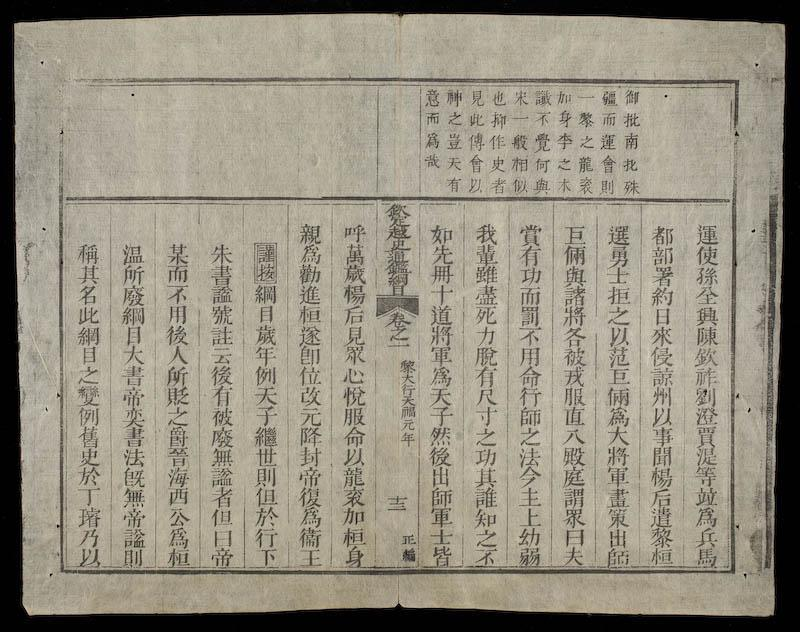c: (207, 277, 236, 304), (383, 311, 413, 334), (119, 241, 147, 265), (251, 240, 280, 263), (207, 265, 234, 289), (164, 241, 191, 265), (692, 425, 720, 448), (605, 223, 633, 246), (75, 505, 103, 528), (384, 273, 412, 296), (692, 222, 721, 244), (74, 241, 101, 264), (647, 526, 675, 548), (471, 486, 499, 508), (207, 325, 235, 347), (427, 223, 455, 245), (472, 284, 500, 306), (252, 425, 280, 447), (252, 505, 280, 527), (691, 485, 720, 506), (604, 285, 633, 306), (429, 544, 455, 567), (517, 223, 543, 246), (165, 426, 191, 449), (76, 425, 102, 448), (296, 526, 323, 548), (649, 265, 676, 287), (648, 466, 675, 488), (296, 222, 323, 244), (120, 365, 147, 387), (208, 304, 235, 326), (516, 305, 543, 327), (208, 242, 235, 264), (75, 546, 102, 568), (605, 246, 632, 268), (252, 465, 279, 487), (649, 224, 676, 246), (692, 447, 720, 468), (692, 528, 720, 549), (604, 407, 632, 428), (691, 386, 719, 407), (692, 506, 720, 527), (120, 528, 148, 549), (75, 465, 103, 486), (515, 525, 543, 546), (561, 224, 589, 245), (516, 406, 544, 427), (163, 386, 191, 407), (560, 346, 588, 367), (339, 526, 367, 547), (208, 486, 236, 507), (693, 326, 721, 347), (252, 527, 280, 548), (384, 331, 413, 351), (649, 445, 675, 467), (120, 285, 146, 307), (605, 346, 631, 368), (208, 385, 234, 407), (252, 283, 278, 305), (473, 222, 499, 244), (164, 324, 190, 346), (428, 365, 454, 387), (428, 304, 454, 326), (516, 466, 542, 488), (693, 465, 720, 486), (648, 506, 675, 527), (340, 406, 367, 427), (604, 507, 631, 528), (296, 486, 323, 507), (605, 386, 632, 407), (693, 265, 720, 286), (561, 406, 588, 427), (120, 487, 147, 508), (340, 466, 367, 487), (516, 486, 543, 507), (427, 425, 454, 446), (472, 367, 499, 388), (516, 446, 543, 467), (473, 244, 500, 265), (561, 245, 588, 266), (560, 446, 587, 467), (516, 546, 543, 567), (208, 406, 235, 427), (296, 325, 323, 346), (428, 325, 455, 346), (648, 346, 675, 367), (340, 385, 367, 406), (472, 346, 499, 367), (75, 384, 102, 405), (120, 507, 147, 528), (120, 426, 147, 447), (604, 445, 631, 466), (164, 547, 192, 567), (692, 367, 720, 387), (340, 222, 368, 242), (560, 286, 588, 306), (74, 325, 102, 345), (560, 307, 588, 327), (692, 347, 720, 367), (693, 245, 721, 265), (207, 467, 235, 487), (693, 305, 721, 325), (471, 508, 499, 528), (647, 546, 676, 565), (253, 324, 278, 346), (342, 243, 367, 265), (693, 546, 719, 567), (560, 487, 586, 508), (649, 406, 675, 427), (472, 466, 498, 487), (75, 264, 101, 285), (208, 364, 234, 385), (517, 285, 543, 306), (297, 365, 323, 386), (517, 246, 543, 267), (164, 365, 190, 386), (517, 346, 543, 367), (209, 427, 235, 448), (296, 284, 322, 305), (429, 264, 455, 285), (296, 264, 322, 285), (341, 284, 367, 305), (120, 406, 146, 427), (296, 466, 322, 487), (692, 406, 719, 426), (604, 528, 631, 548), (428, 506, 455, 526), (693, 285, 720, 305), (649, 426, 676, 446), (516, 506, 543, 526), (340, 487, 367, 507), (164, 467, 191, 487), (604, 487, 631, 507), (472, 528, 499, 548), (605, 305, 632, 325), (516, 386, 543, 406), (604, 466, 631, 486), (208, 507, 235, 527), (648, 367, 675, 387), (296, 304, 323, 324), (649, 246, 676, 266), (560, 367, 587, 387), (296, 446, 323, 466), (427, 387, 454, 407), (252, 386, 279, 406), (472, 306, 499, 326), (341, 264, 368, 284), (120, 447, 147, 467), (209, 447, 236, 467), (252, 486, 279, 506), (75, 405, 102, 425), (339, 506, 367, 525), (342, 546, 367, 567), (606, 325, 631, 346), (298, 386, 323, 407), (562, 266, 587, 287), (253, 365, 278, 386), (165, 447, 191, 467), (384, 492, 410, 512), (209, 527, 235, 547), (341, 426, 367, 446), (297, 506, 323, 526), (165, 527, 191, 547), (428, 487, 454, 507), (473, 406, 499, 426), (120, 265, 146, 285), (253, 405, 279, 425), (561, 387, 587, 407), (649, 326, 675, 346), (649, 286, 675, 306), (560, 467, 586, 487), (427, 446, 453, 466), (429, 245, 455, 265), (121, 467, 147, 487), (561, 327, 587, 347), (209, 547, 235, 567), (164, 284, 190, 304), (517, 367, 543, 387), (297, 426, 323, 446), (472, 547, 499, 566), (605, 548, 632, 567), (604, 426, 631, 445), (297, 407, 324, 426), (560, 508, 587, 527), (473, 265, 500, 284), (428, 406, 455, 425), (252, 447, 279, 466), (119, 387, 146, 406), (472, 447, 499, 466), (429, 466, 453, 487), (341, 446, 366, 466), (341, 305, 366, 325), (649, 386, 674, 406), (342, 345, 367, 365), (76, 365, 101, 385), (164, 304, 189, 324), (473, 427, 498, 447), (76, 447, 102, 466), (648, 488, 674, 507), (164, 265, 190, 284), (429, 285, 455, 304), (428, 346, 454, 365), (120, 306, 146, 325), (76, 528, 102, 547), (561, 527, 587, 546), (165, 507, 191, 526), (165, 487, 191, 506), (517, 427, 543, 446), (75, 486, 102, 504), (605, 367, 632, 385), (560, 427, 587, 445), (76, 285, 100, 305), (76, 305, 100, 325), (121, 345, 146, 364), (165, 407, 190, 426), (473, 326, 498, 345), (297, 548, 323, 566), (517, 327, 543, 345), (517, 267, 543, 285), (473, 388, 499, 406), (120, 549, 146, 567), (561, 547, 587, 565), (343, 326, 366, 346), (428, 527, 455, 544), (253, 263, 277, 282), (298, 244, 322, 263), (298, 346, 322, 365), (254, 548, 279, 566), (253, 346, 278, 364), (341, 366, 366, 384), (604, 268, 632, 284), (208, 348, 234, 365), (397, 384, 417, 406), (122, 325, 144, 345), (383, 259, 414, 273), (165, 346, 189, 364), (398, 358, 418, 379), (532, 88, 553, 108), (533, 132, 552, 154), (650, 307, 673, 325), (77, 346, 100, 364), (383, 226, 414, 239), (382, 202, 413, 215), (467, 132, 486, 153), (254, 305, 276, 323), (599, 89, 619, 108), (444, 89, 464, 108), (444, 132, 464, 151), (598, 133, 618, 152), (622, 88, 642, 107), (576, 155, 595, 175), (510, 133, 530, 152), (423, 88, 442, 108), (622, 132, 641, 152), (622, 111, 642, 130), (599, 154, 617, 175), (509, 156, 530, 174), (384, 251, 412, 264), (621, 157, 640, 176), (489, 111, 508, 130), (555, 132, 574, 151), (489, 155, 507, 175), (621, 179, 642, 196), (468, 154, 485, 175), (444, 155, 463, 173), (423, 153, 442, 171), (533, 110, 552, 128), (488, 133, 507, 151), (444, 176, 463, 194), (512, 89, 530, 108), (599, 111, 618, 129), (577, 111, 595, 130), (469, 88, 486, 108), (532, 178, 552, 195), (384, 239, 412, 251), (490, 90, 508, 108), (577, 177, 595, 195), (489, 178, 508, 195), (556, 110, 573, 129), (424, 131, 441, 150), (399, 546, 417, 563), (598, 179, 616, 196), (446, 111, 464, 128), (467, 112, 485, 129), (467, 177, 484, 195), (534, 157, 551, 175), (555, 90, 574, 106), (510, 178, 529, 194), (556, 178, 573, 195), (424, 111, 441, 128), (578, 134, 595, 151), (556, 157, 573, 174), (386, 215, 412, 226), (398, 431, 416, 446), (399, 531, 417, 546), (398, 405, 417, 419), (576, 91, 595, 104), (510, 113, 529, 126), (399, 418, 416, 432)
